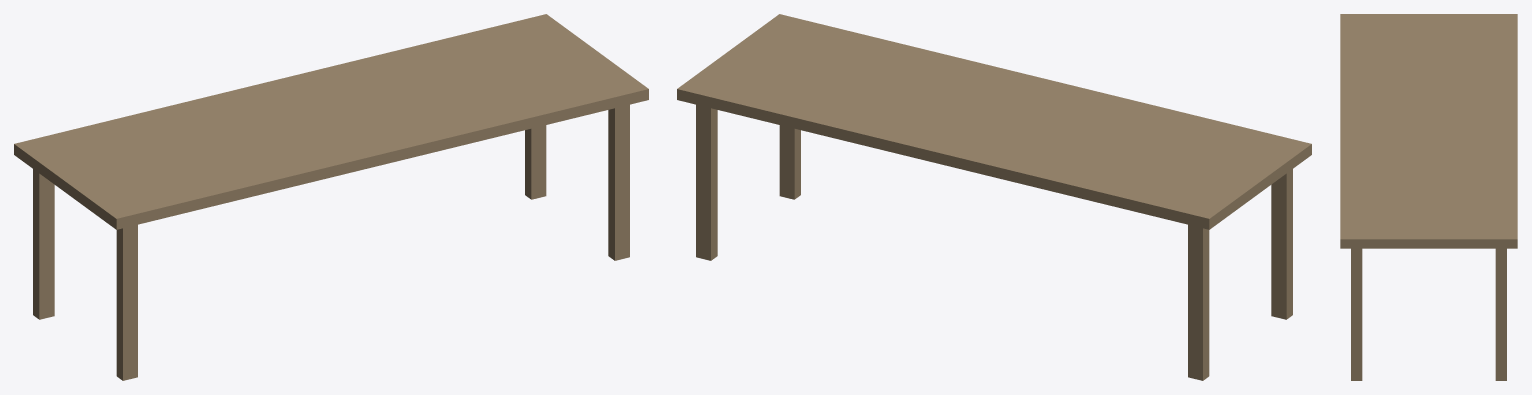
File: Table.fbx
3 renders of one model, left to right at view 1: azimuth 30°, elevation 25°; view 2: azimuth 150°, elevation 25°; view 3: azimuth 270°, elevation 25°, orthographic. The views are drawn at different scales.
Visible parts, largest first — view 1: table; view 2: table; view 3: table.
Part boxes in pixels (bbox=[...]): table: bbox=[14, 14, 648, 380]; table: bbox=[677, 14, 1311, 380]; table: bbox=[1340, 14, 1517, 380].
Bounding box in the file's own units: 300 × 91.39 × 100.
